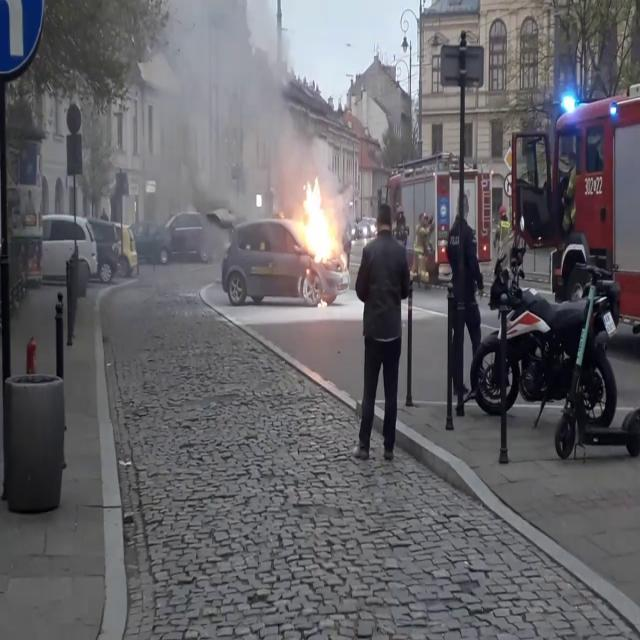Fire: (289, 173, 343, 270)
Smoke: (134, 1, 320, 224)
